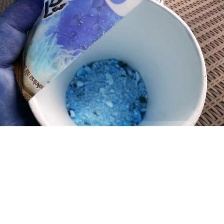paper_cup: (15, 0, 212, 126)
